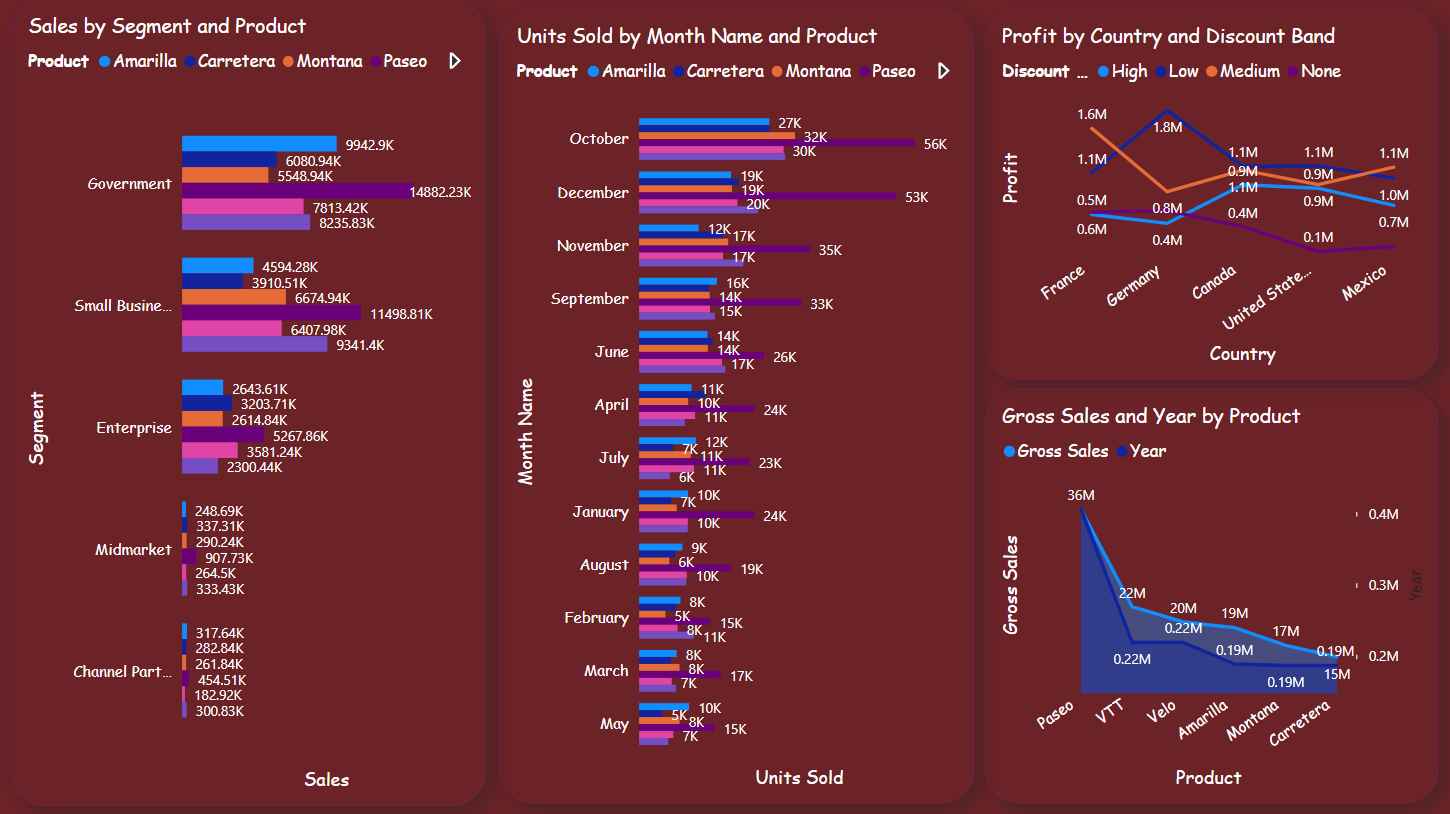

This screenshot's page, from the dashboard's own definition file:
{"tool":"powerbi","page":{"name":"finance","canvas":[1280,720],"ordinal":1},"visuals":[{"type":"clusteredBarChart","fields":{"Category":["financials.Segment"],"Series":["financials.Product"],"Y":["Sum(financials. Sales)"]},"box":[9.6,0,418.3,711.9],"z":0},{"type":"lineChart","fields":{"Series":["financials.Discount Band"],"Y":["Sum(financials.Profit)"],"Category":["financials.Country"]},"box":[868.9,8.4,400.3,327.2],"z":1000},{"type":"clusteredBarChart","fields":{"Category":["financials.Month Name"],"Y":["Sum(financials.Units Sold)"],"Series":["financials.Product"]},"box":[441,8.4,418.3,701.1],"z":2000},{"type":"areaChart","fields":{"Category":["financials.Product"],"Y":["Sum(financials.Gross Sales)"],"Y2":["Sum(financials.Year)"]},"box":[868.9,344,400.3,365.5],"z":3000}]}

Visuals, with their boxes in screenshot pixels (x1, y1, x2, y2), scaled from the page's 1280x720 canvas onto the 1450x814 screenshot:
clusteredBarChart - financials.Segment x financials.Product: bbox(11, 0, 485, 805)
lineChart - financials.Discount Band x Sum(financials.Profit): bbox(984, 9, 1438, 379)
clusteredBarChart - financials.Month Name x Sum(financials.Units Sold): bbox(500, 9, 973, 802)
areaChart - financials.Product x Sum(financials.Gross Sales): bbox(984, 389, 1438, 802)
